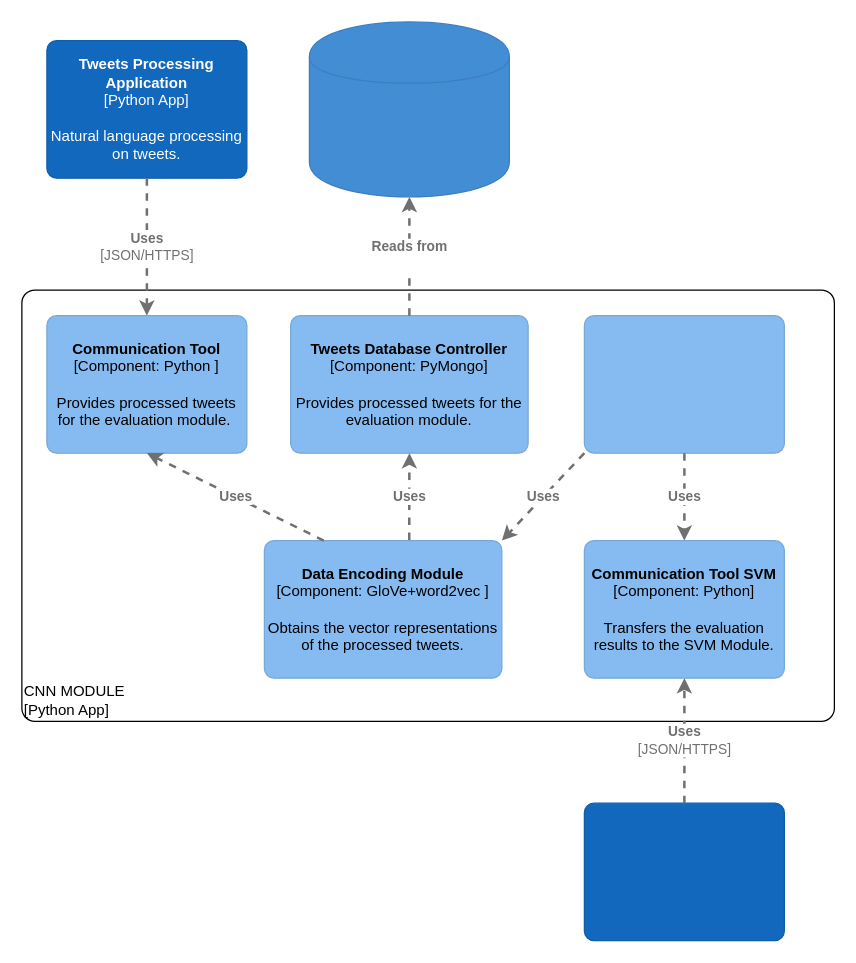
Some shapes in this 856 by 963 pixel diagram are drawn without their labels. Each missing label, with the centre of its shape:
Data Evaluation Module [Component: Keras ] Evaluates the encoded tweets.: the point at 683,383
Database [Container: Relational Database Schema] Stores training data: the point at 408,109
SVM Module [Python App] Classifies tweets in worthy/unworthy categories.: the point at 683,871
